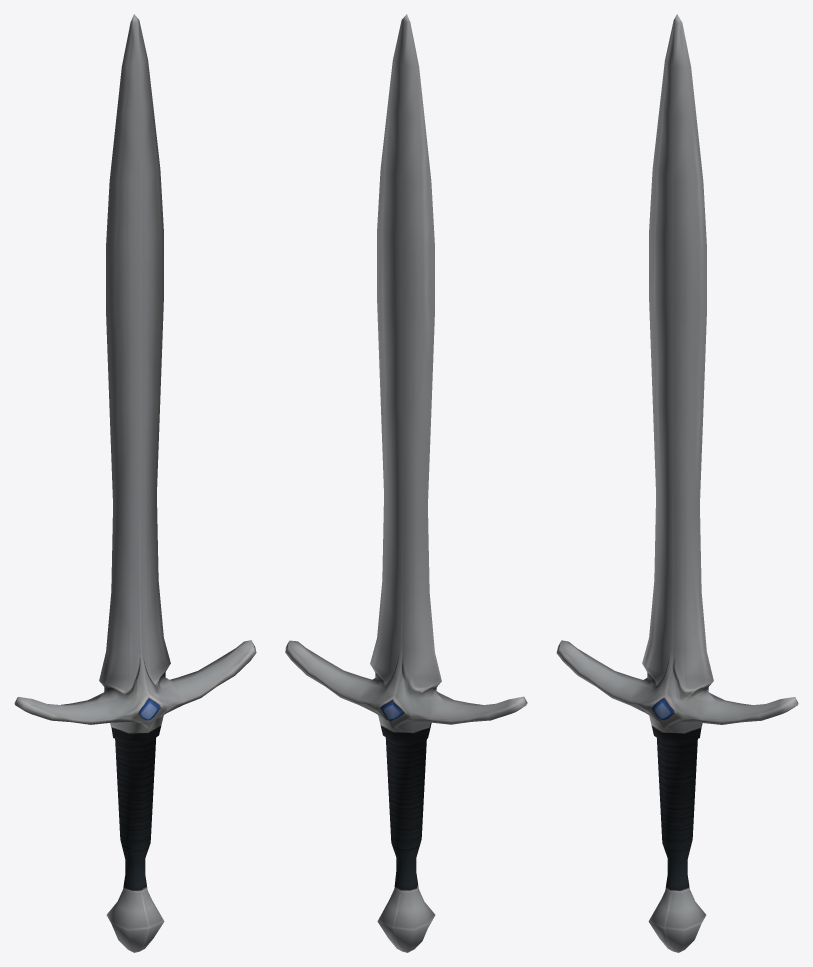
The model's file is Sword.fbx.
The picture shows the model from 3 angles, left to right: view 1: azimuth 30°, elevation 25°; view 2: azimuth 150°, elevation 25°; view 3: azimuth 330°, elevation 25°; orthographic projection.
Visible parts, largest first — view 1: tripo_node_bb7c5fd9; view 2: tripo_node_bb7c5fd9; view 3: tripo_node_bb7c5fd9.
Part boxes in pixels (<box>): tripo_node_bb7c5fd9: <box>14,14,256,952</box>; tripo_node_bb7c5fd9: <box>285,14,527,952</box>; tripo_node_bb7c5fd9: <box>556,14,798,952</box>.
Size of the model in its own units: 26.76 by 5.66 by 99.8.
1 material, 1 textured.
